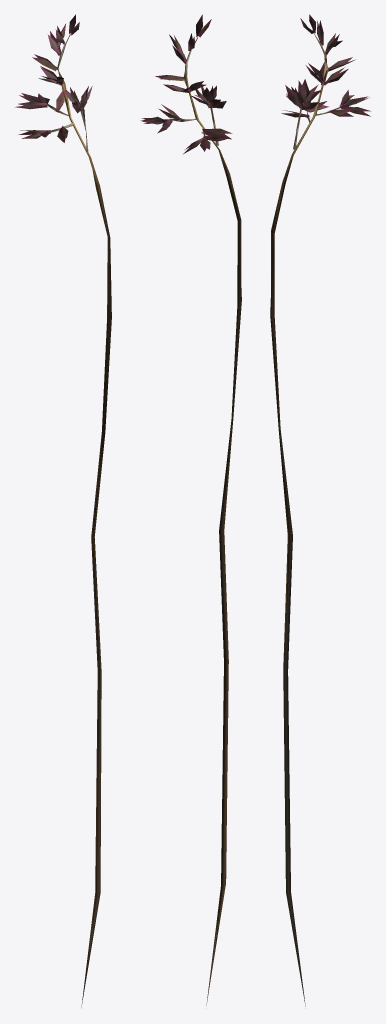
The model's file is trees-grasses-flowering-grass_v1.glb.
The picture shows the model from 3 angles, left to right: view 1: azimuth 90°, elevation 25°; view 2: azimuth 150°, elevation 25°; view 3: azimuth 330°, elevation 25°; orthographic projection.
Parts seen in each view (by area): view 1: Flowering Grass_v1; view 2: Flowering Grass_v1; view 3: Flowering Grass_v1.
Part boxes in pixels (x1,y1,x2,y2): Flowering Grass_v1: [15, 14, 111, 1007]; Flowering Grass_v1: [140, 14, 241, 1005]; Flowering Grass_v1: [270, 14, 370, 1005].
Bounding box in the file's own units: 0.0716 × 0.8 × 0.0713.
